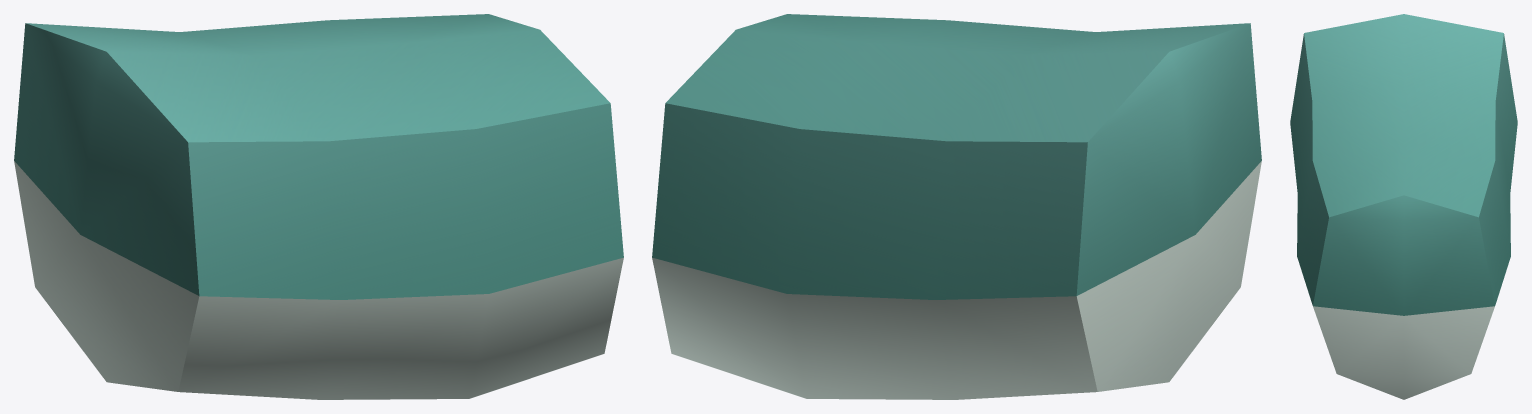
The model's file is Whale_body.fbx.
3 renders of one model, left to right at view 1: azimuth 30°, elevation 25°; view 2: azimuth 150°, elevation 25°; view 3: azimuth 270°, elevation 25°, orthographic. The views are drawn at different scales.
Visible parts, largest first — view 1: Whale_body; view 2: Whale_body; view 3: Whale_body.
Part boxes in pixels (x1=…): Whale_body: x1=14, y1=14, x2=623, y2=399; Whale_body: x1=652, y1=14, x2=1261, y2=399; Whale_body: x1=1290, y1=14, x2=1517, y2=399.
Bounding box in the file's own units: 57.1 × 45.1 × 36.73.
